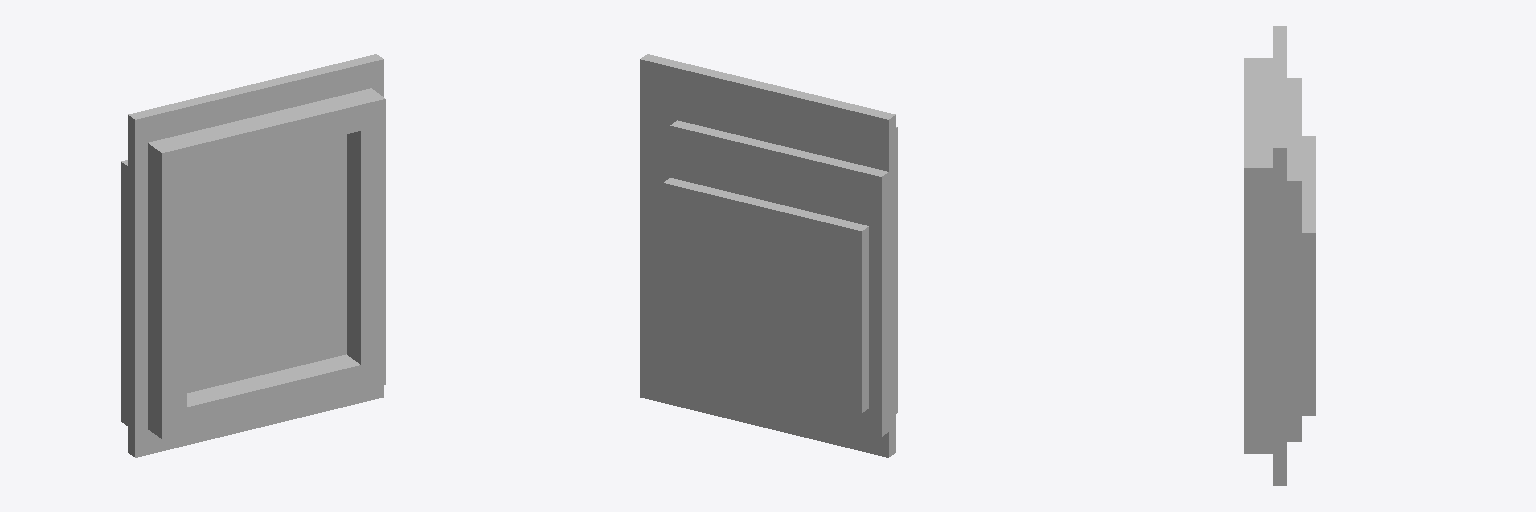
Rendered from drawerdoor.obj.
The picture shows the model from 3 angles: view 1: azimuth 30°, elevation 25°; view 2: azimuth 150°, elevation 25°; view 3: azimuth 270°, elevation 25°; orthographic projection.
Parts seen in each view (by area): view 1: object 1; view 2: object 1; view 3: object 1.
Part boxes in pixels (left/top/right/bottom): object 1: left=121, top=54, right=385, bottom=457; object 1: left=640, top=54, right=897, bottom=457; object 1: left=1244, top=26, right=1315, bottom=485.
Bounding box in the file's own units: 2 × 2.6 × 0.5.